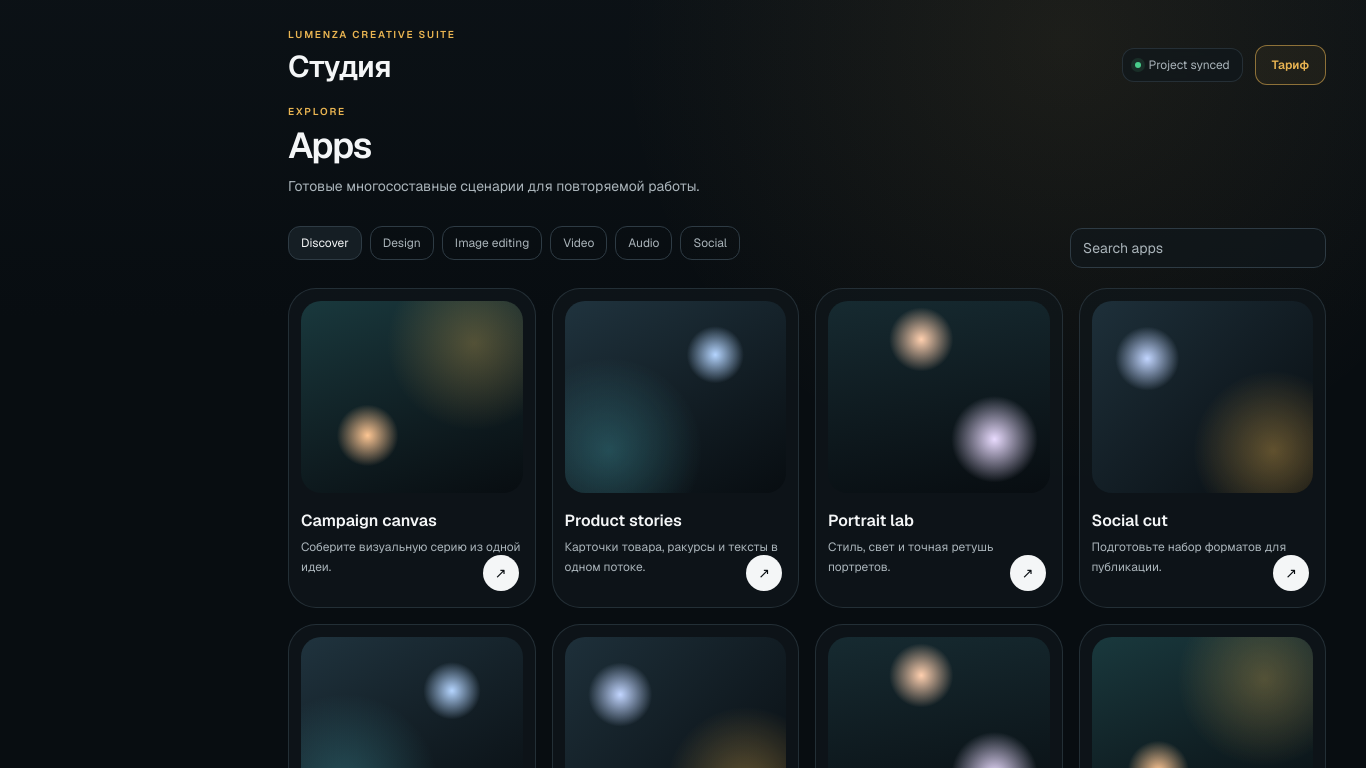
Test: StudioPage motion › filters Apps cards with interactive controls
This screenshot has width=1366, height=768.
Click the button "Design" at (402, 243), box [370,226,434,260]
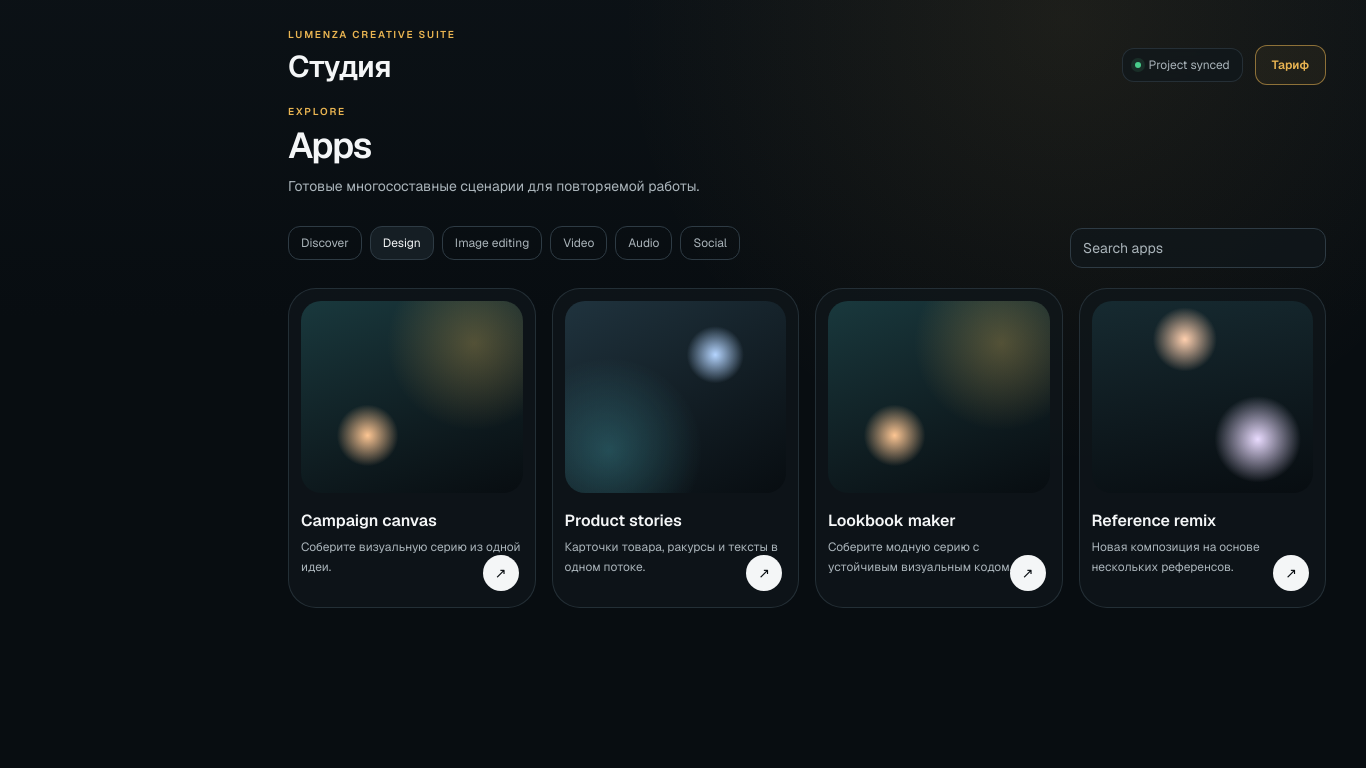
Expected: the heading "Social cut" is gone
Type "нет такого" into the search field named "Поиск Apps" at (1198, 248), box [1070,228,1326,268]
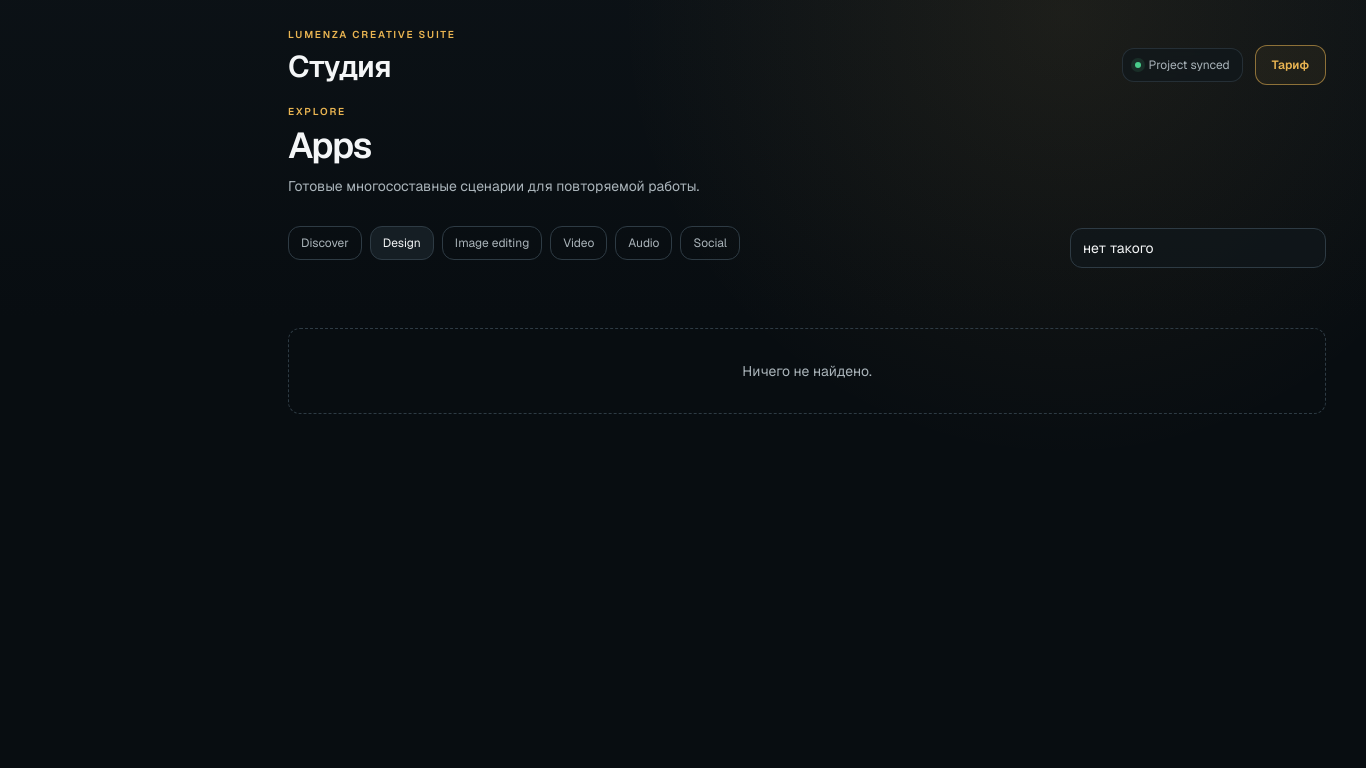
Expected: the message shows "Ничего не найдено", [742,362,872,380]
